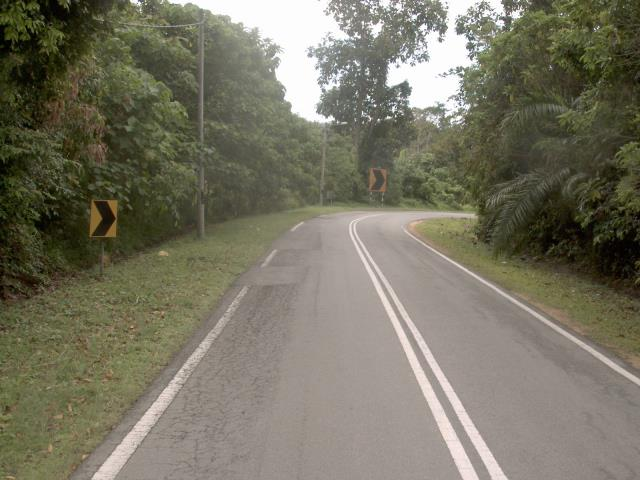traffic_sign: (81, 191, 125, 246)
